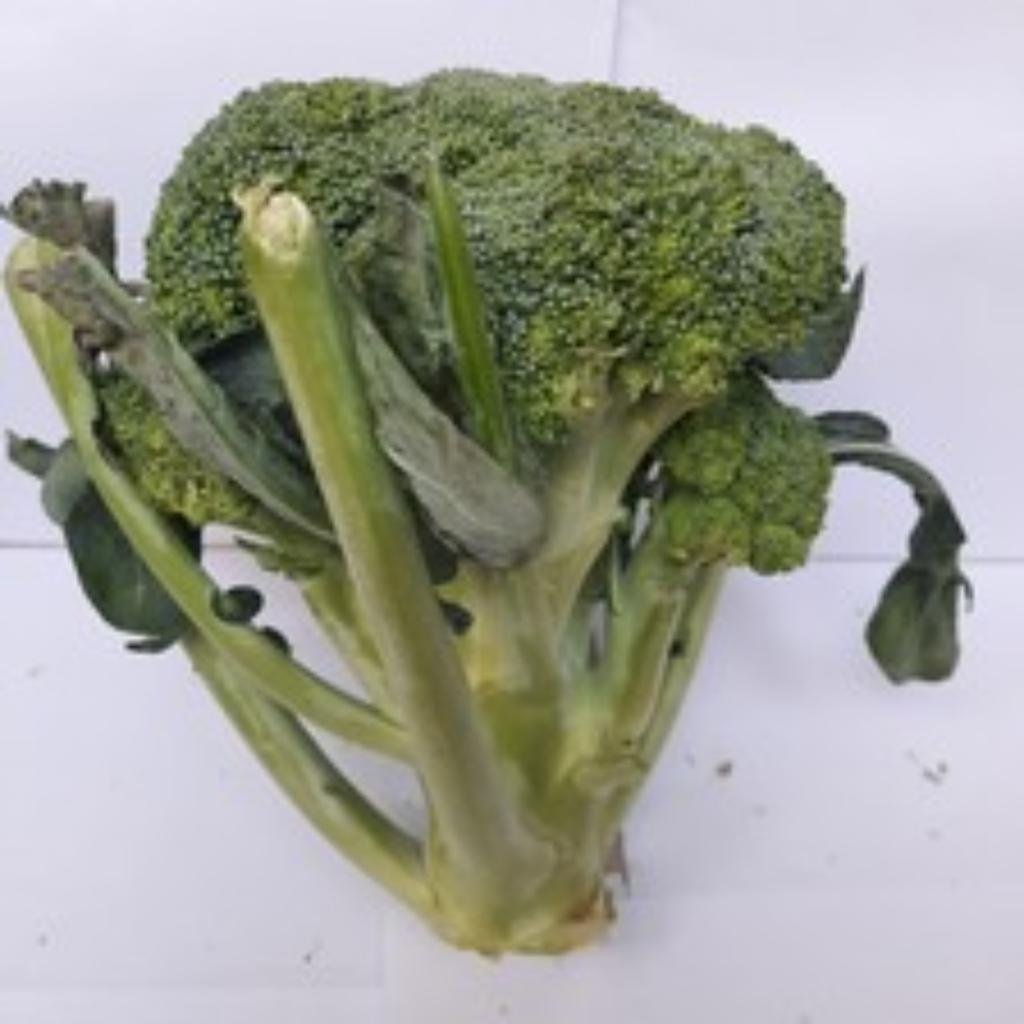Broccoli: (148, 72, 844, 441), (148, 70, 844, 437)
